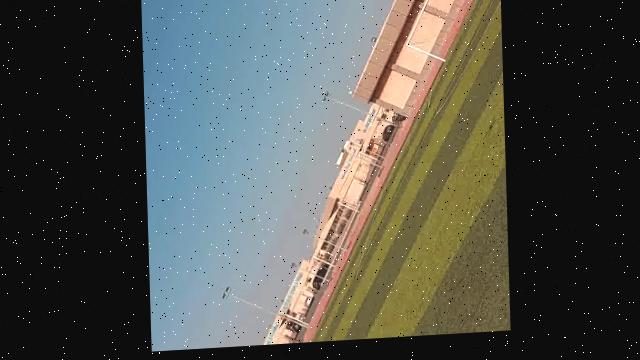drone: (309, 0, 333, 8)
